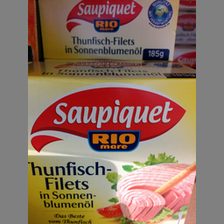fish: (28, 60, 194, 224)
